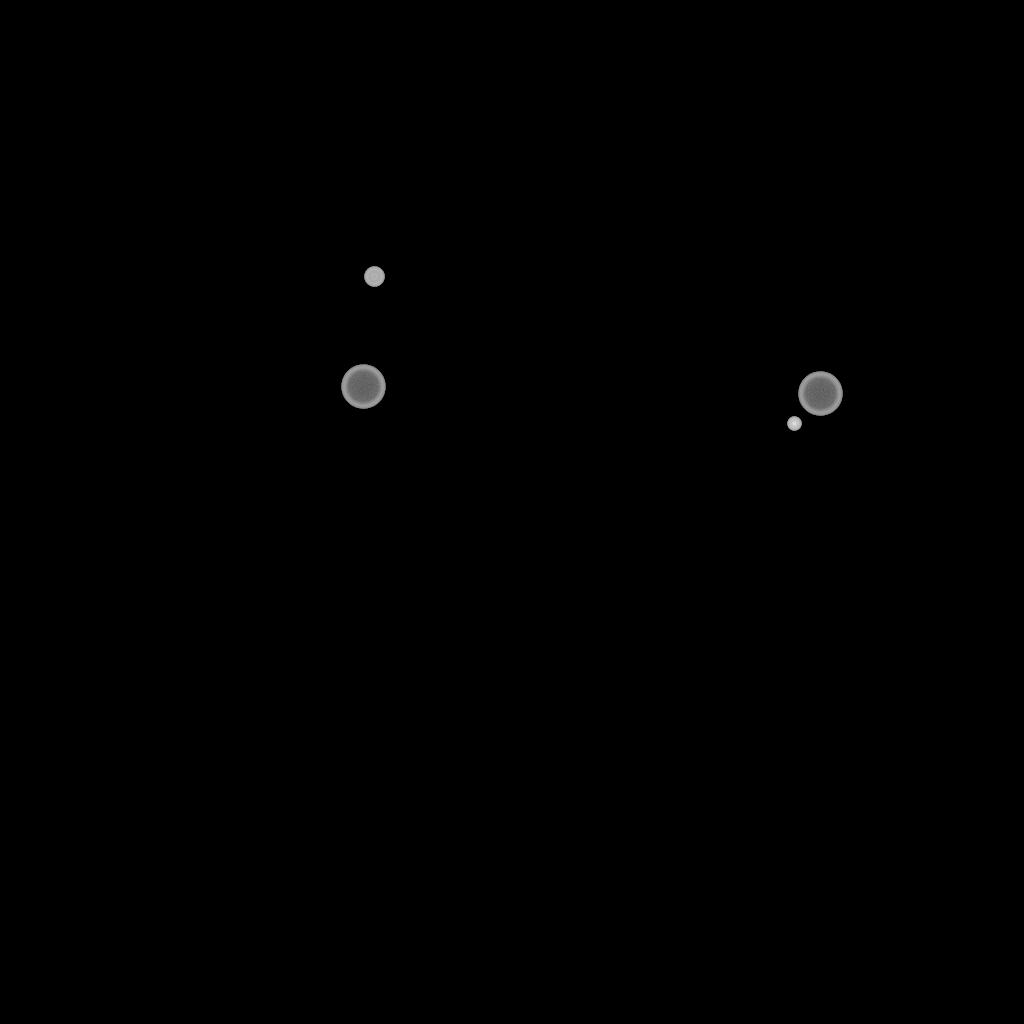depth:-30: (787, 417, 801, 431)
depth:-40: (364, 267, 384, 287)
depth:-70: (798, 372, 842, 416), (341, 365, 385, 409)
